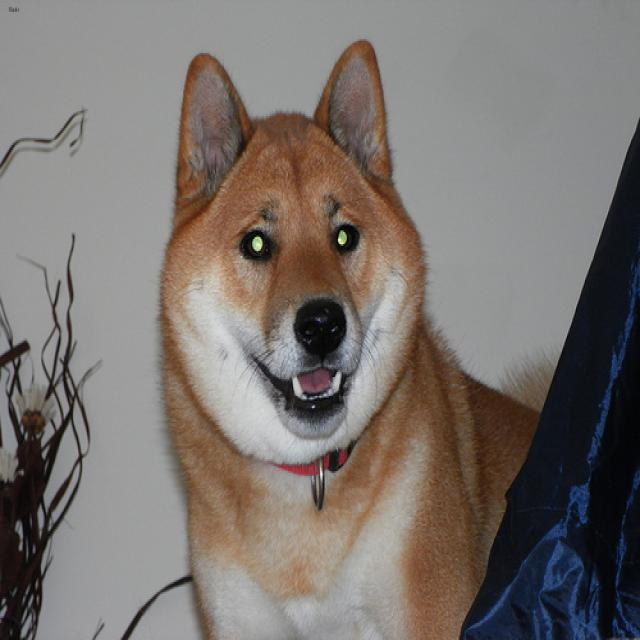dog-shiba_inu: (152, 31, 566, 637)
